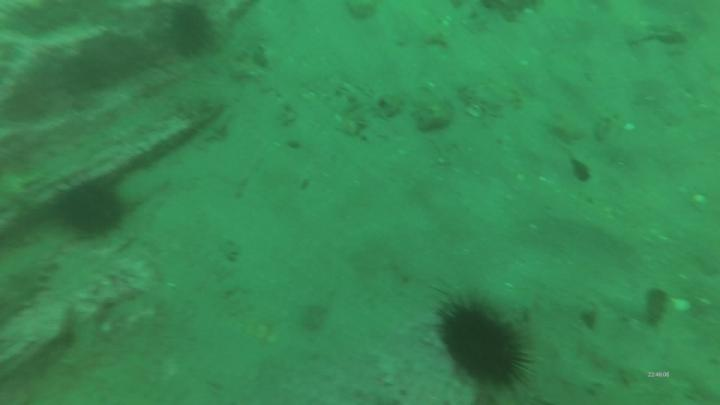echinus: (425, 291, 537, 395), (52, 179, 129, 240), (165, 1, 217, 63)
holothurian: (1, 250, 60, 329)
